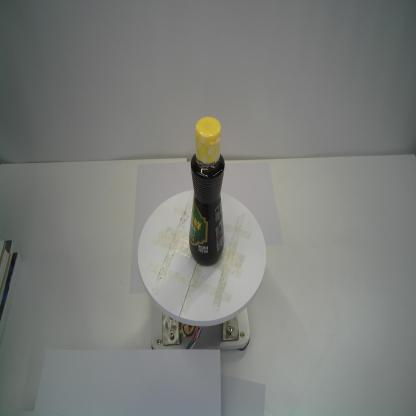Seasoner: (188, 114, 226, 270)
